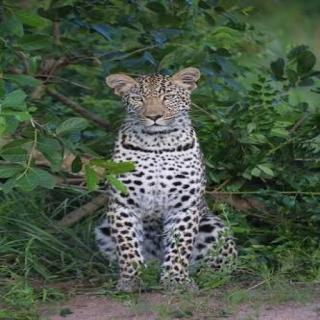Leopard: (92, 40, 243, 298)
